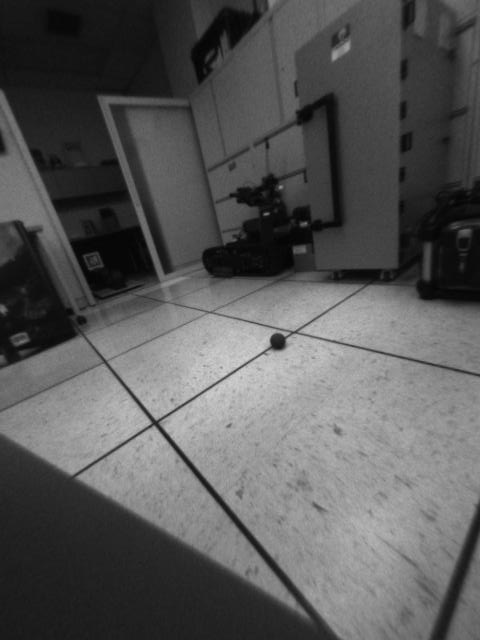dogtoy: (264, 324, 295, 356)
